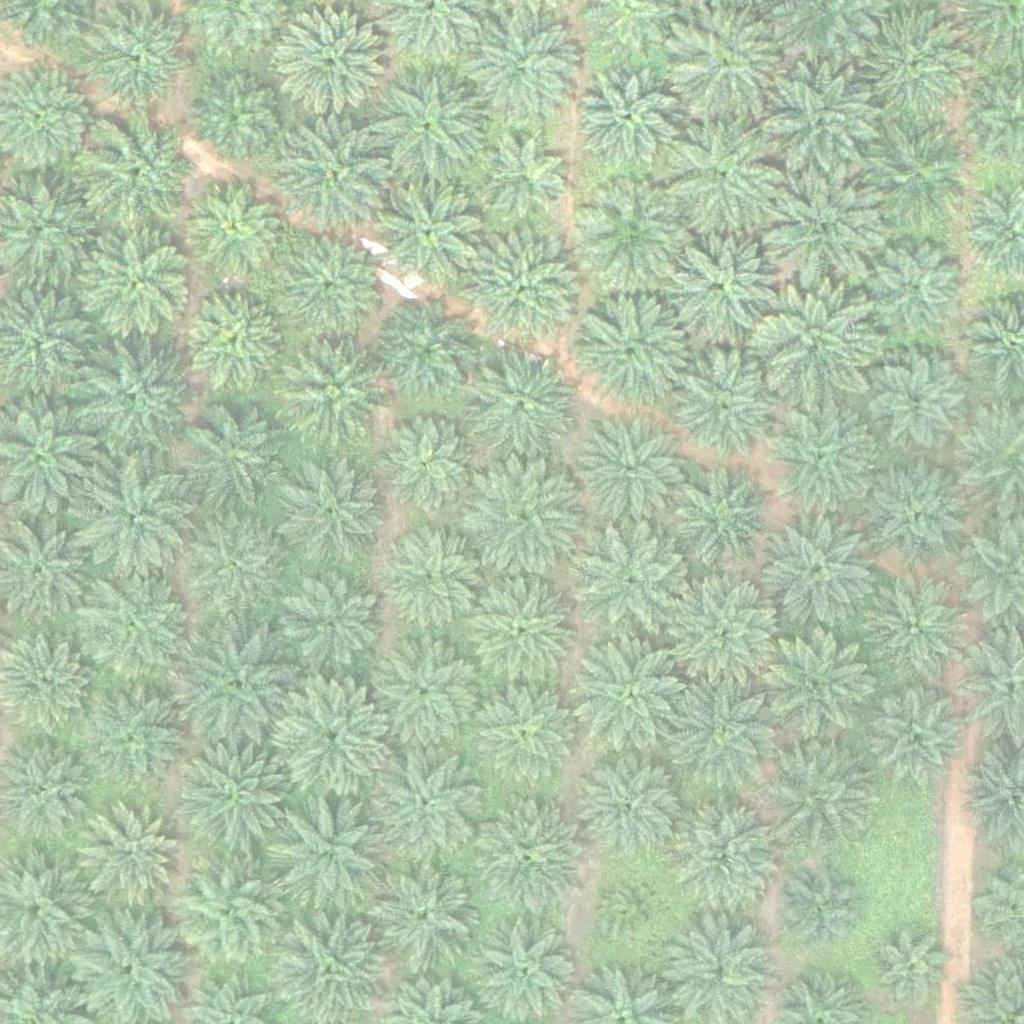Kelapa_Sawit: (83, 115, 196, 229), (80, 226, 193, 340), (669, 797, 782, 911), (575, 638, 688, 752), (181, 398, 294, 512), (170, 854, 283, 968), (277, 8, 390, 121), (373, 67, 486, 180), (374, 172, 487, 285), (468, 232, 581, 345), (578, 291, 691, 404), (669, 7, 782, 120), (764, 66, 877, 179), (766, 172, 879, 285), (760, 287, 873, 400), (857, 567, 970, 680), (673, 578, 786, 691), (667, 673, 780, 786), (574, 413, 687, 526), (578, 529, 691, 642), (465, 348, 578, 461), (470, 462, 583, 575), (277, 681, 390, 794), (274, 793, 387, 906), (178, 511, 291, 624), (183, 630, 296, 743), (176, 742, 289, 855), (78, 342, 191, 455), (80, 464, 193, 577), (275, 333, 387, 447), (865, 5, 977, 119), (471, 576, 583, 690), (274, 457, 386, 571), (275, 121, 387, 234), (273, 231, 385, 344), (465, 14, 577, 127), (577, 177, 689, 290), (671, 119, 783, 232), (669, 225, 781, 338), (862, 120, 974, 233), (766, 404, 878, 517), (763, 515, 875, 628), (768, 627, 880, 740), (767, 734, 879, 847), (673, 349, 785, 462), (473, 802, 585, 915), (372, 639, 484, 752), (376, 749, 488, 862), (81, 570, 193, 683), (79, 683, 191, 796), (370, 858, 482, 971), (192, 64, 292, 165), (376, 299, 476, 400), (476, 132, 576, 233), (576, 65, 676, 166), (866, 237, 966, 338), (868, 356, 968, 457), (868, 460, 968, 561), (869, 687, 969, 788), (678, 466, 778, 567), (82, 802, 182, 903), (94, 4, 194, 104), (190, 179, 290, 279), (186, 291, 286, 391), (583, 755, 683, 855), (476, 686, 576, 786), (377, 418, 477, 518), (382, 532, 482, 632), (285, 576, 385, 676), (787, 877, 862, 953), (873, 928, 948, 1003), (604, 880, 666, 943)
